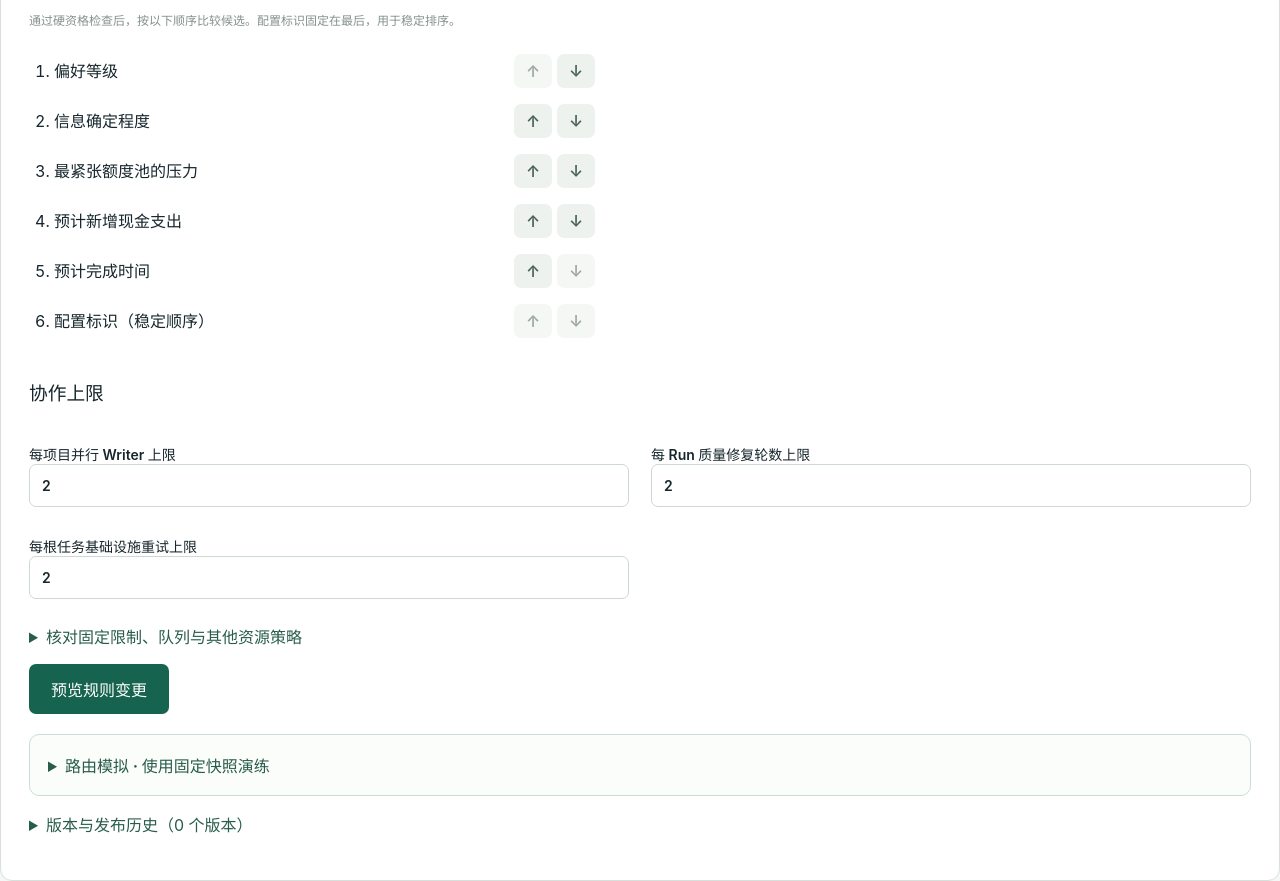
Test case: invalidates a preview after any form change
(page scrolled)
Click the button "预览规则变更".
click(99, 689)  # box [29,664,169,714]
(page scrolled)
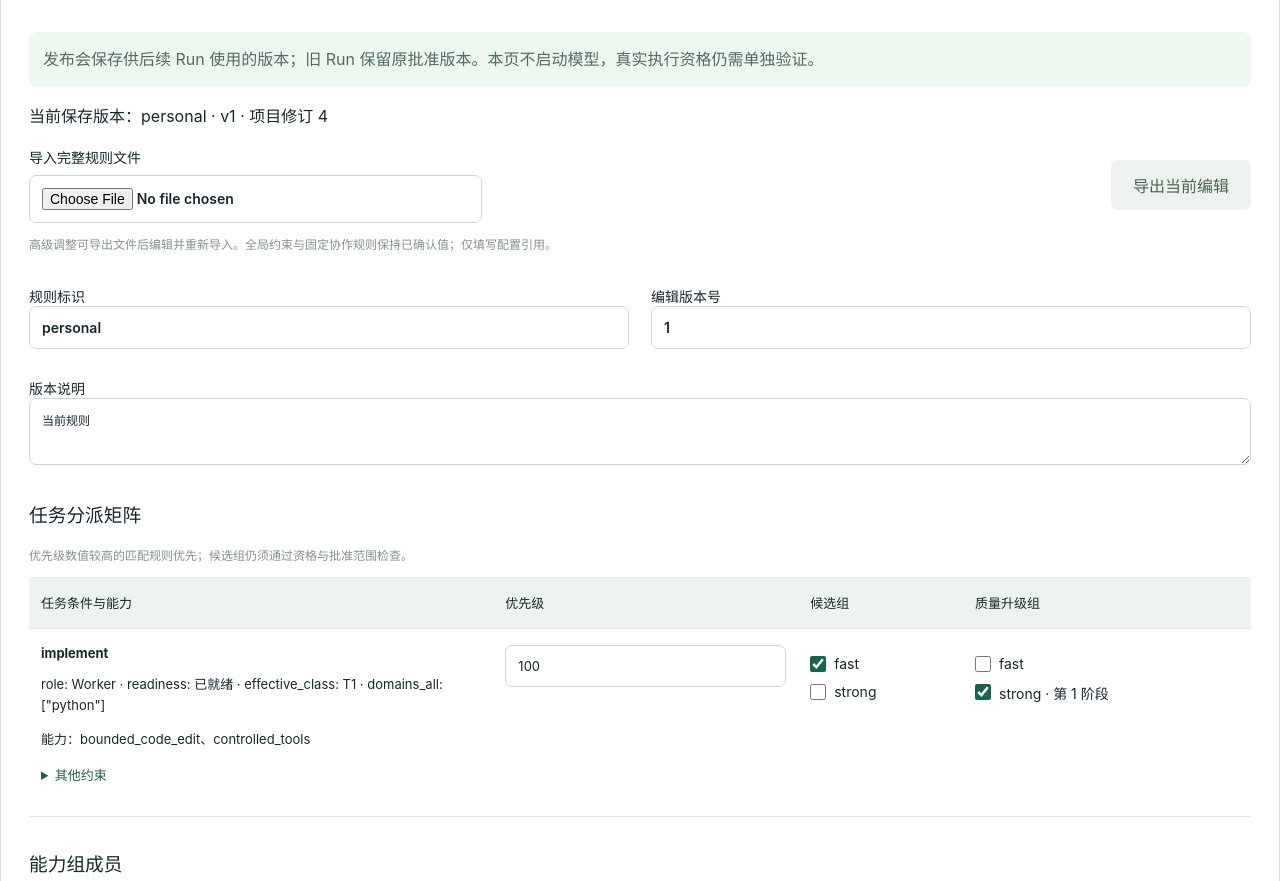
Replace the text in the text box labelled "版本说明" with "修改后说明" at (640, 432), box [29,398,1251,465]
(page scrolled)
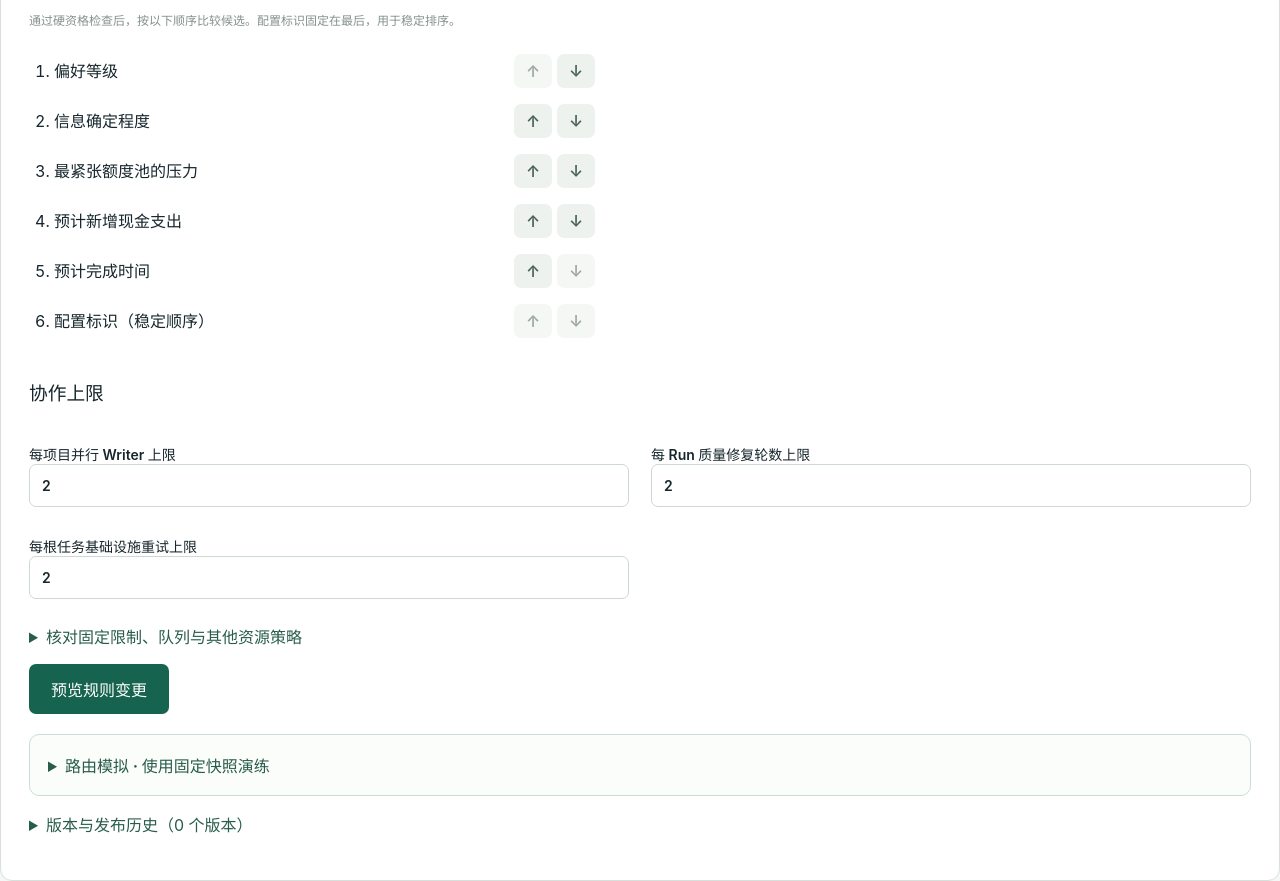
Expected: the button "确认发布此版本" is not shown
Click the button "预览规则变更".
click(99, 689)  # box [29,664,169,714]
(page scrolled)
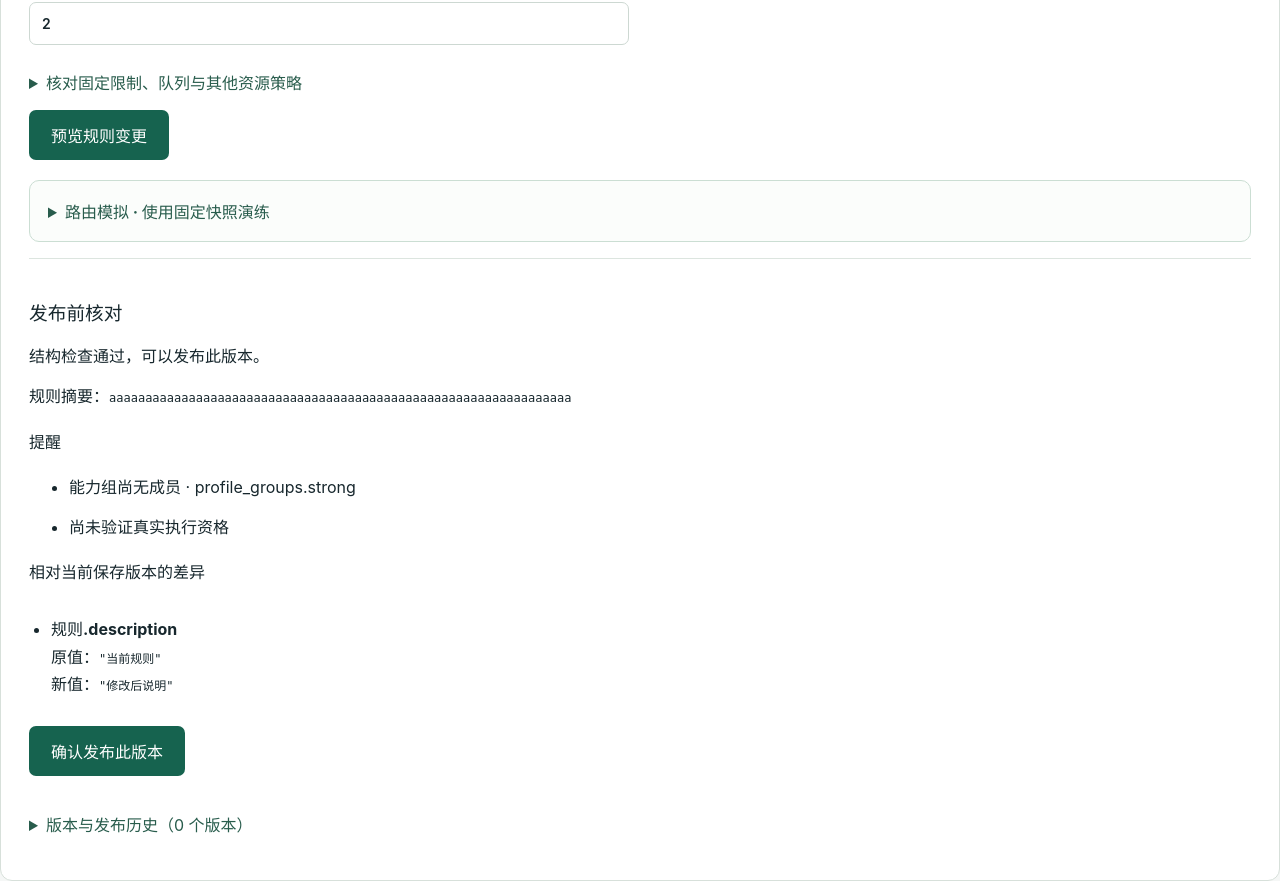
Expected: the element named "发布预览" is shown, [29,258,1251,796]
